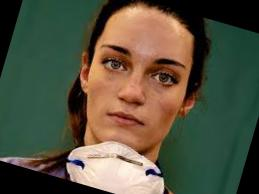mask_weared_incorrect: (68, 35, 192, 181)
